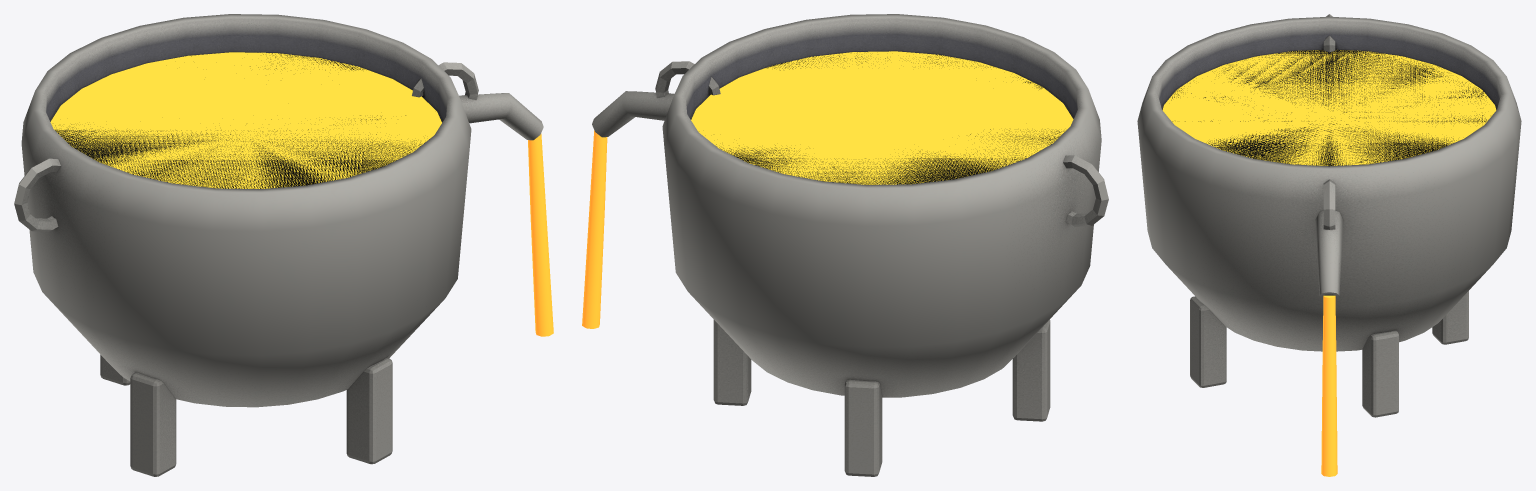
File: dg_caldeirao_forja.glb
The picture shows the model from 3 angles, left to right: view 1: azimuth 30°, elevation 25°; view 2: azimuth 150°, elevation 25°; view 3: azimuth 270°, elevation 25°; orthographic projection. The views are drawn at different scales.
Parts seen in each view (by area): view 1: dg_caldeirao_forja_tronco, metal_fundido, escorrido; view 2: dg_caldeirao_forja_tronco, metal_fundido, escorrido; view 3: dg_caldeirao_forja_tronco, metal_fundido, escorrido.
Boxes of the visible parts, x1,y1,x2,y2 form: dg_caldeirao_forja_tronco: (14,14,543,476); metal_fundido: (50,52,441,188); escorrido: (528,133,553,336); dg_caldeirao_forja_tronco: (592,14,1108,476); metal_fundido: (691,51,1073,184); escorrido: (582,130,607,328); dg_caldeirao_forja_tronco: (1137,14,1521,417); metal_fundido: (1162,50,1496,165); escorrido: (1321,295,1337,476).
Bounding box in the file's own units: 2.62 × 1.46 × 1.9.
Materials: 3 (1 with a texture image).
